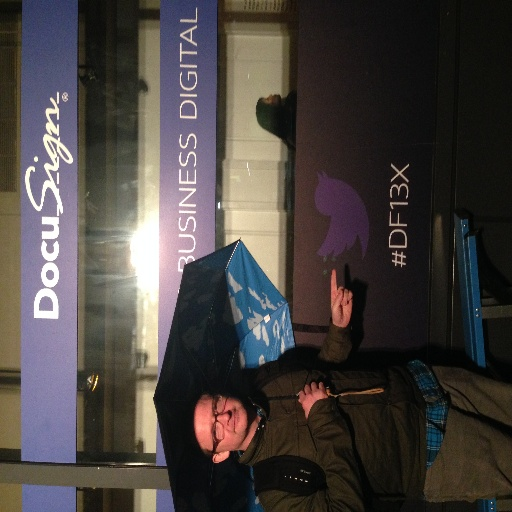hand: (326, 278, 362, 345), (297, 379, 330, 419)
